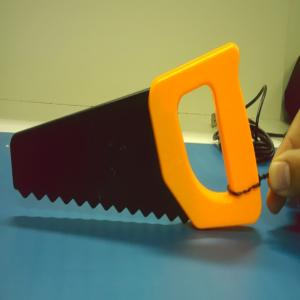serrote: (9, 41, 263, 230)
